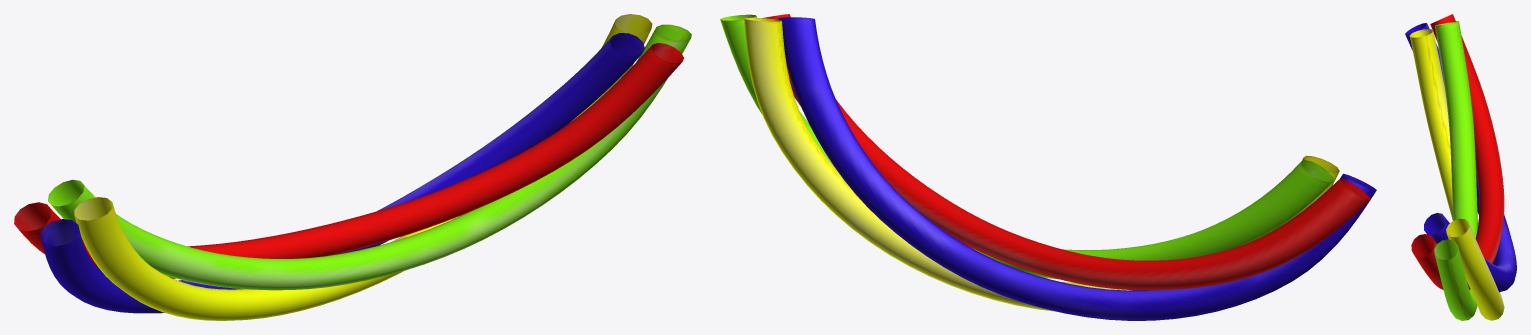
The model's file is COLOR_CABLES.FBX.
The picture shows the model from 3 angles, left to right: view 1: azimuth 30°, elevation 25°; view 2: azimuth 150°, elevation 25°; view 3: azimuth 270°, elevation 25°; orthographic projection. The views are drawn at different scales.
Visible parts, largest first — view 1: COLOR_CABLES; view 2: COLOR_CABLES; view 3: COLOR_CABLES.
Boxes of the visible parts, x1=… form: COLOR_CABLES: x1=14, y1=14, x2=691, y2=320; COLOR_CABLES: x1=720, y1=14, x2=1376, y2=320; COLOR_CABLES: x1=1405, y1=14, x2=1516, y2=320.
Size of the model in its own units: 743 by 233 by 133.
